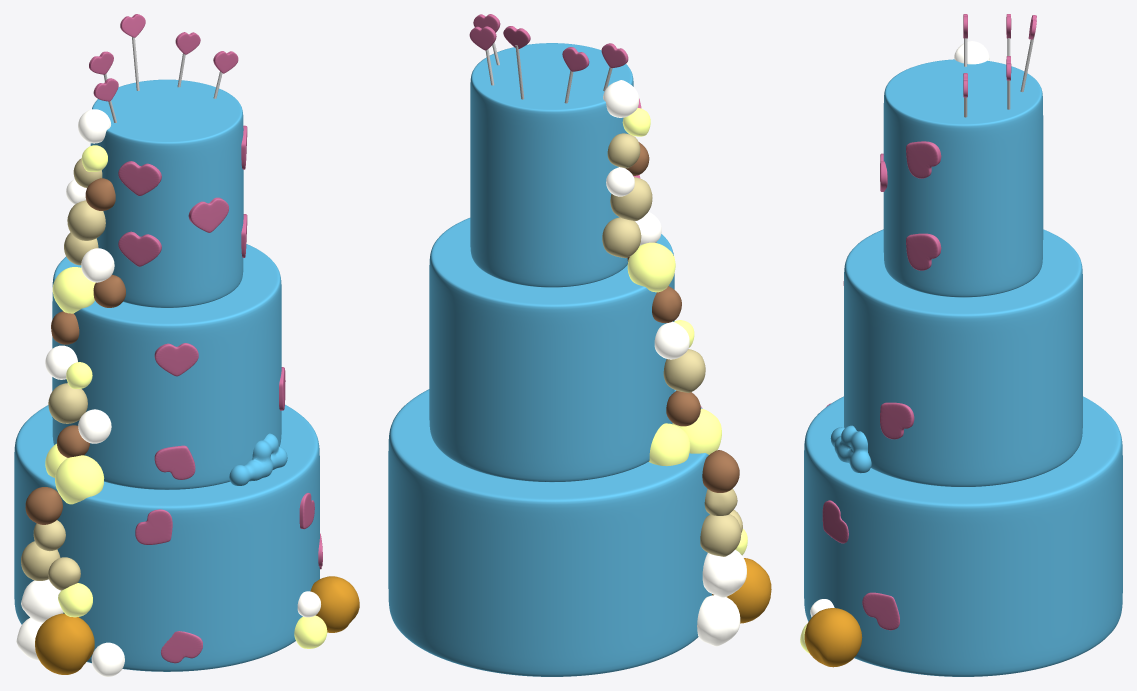
File: Cake_Layer_3_LightBlue_Topper1_Hearts_NoDrip.glb
3 views of the same model, side by side, from view 1: azimuth 30°, elevation 25°; view 2: azimuth 150°, elevation 25°; view 3: azimuth 270°, elevation 25° (orthographic). The views are drawn at different scales.
Visible parts, largest first — view 1: Circle.001, Circle.002, Circle.003, Sphere, Sphere.026, Sphere.015, Sphere.028, Sphere.007, Sphere.002, Sphere.012, Sphere.032, Sphere.006 (+25 smaller); view 2: Circle.001, Circle.002, Circle.003, Sphere.007, Sphere.013, Sphere.002, Sphere, Sphere.005, Sphere.008, Sphere.012, Sphere.006, Sphere.037 (+11 smaller); view 3: Circle.001, Circle.002, Circle.003, Sphere.026, Sphere.028, Star.016, Star.012, Star.004, Star.011, Star.010, Sphere.039.
Boxes of the visible parts, left/top/right/bottom form: Circle.001: left=14, top=404, right=319, bottom=671; Circle.002: left=52, top=244, right=281, bottom=489; Circle.003: left=90, top=79, right=243, bottom=307; Sphere: left=35, top=613, right=94, bottom=674; Sphere.026: left=310, top=576, right=359, bottom=632; Sphere.015: left=55, top=455, right=104, bottom=504; Sphere.028: left=229, top=433, right=287, bottom=485; Sphere.007: left=52, top=267, right=95, bottom=313; Sphere.002: left=21, top=579, right=63, bottom=622; Sphere.012: left=48, top=383, right=87, bottom=423; Sphere.032: left=67, top=200, right=105, bottom=240; Sphere.006: left=25, top=487, right=62, bottom=524; Circle.001: left=388, top=389, right=711, bottom=676; Circle.002: left=429, top=218, right=674, bottom=482; Circle.003: left=470, top=43, right=633, bottom=287; Sphere.007: left=627, top=242, right=675, bottom=292; Sphere.013: left=697, top=595, right=740, bottom=646; Sphere.002: left=702, top=550, right=746, bottom=597; Sphere: left=712, top=558, right=771, bottom=623; Sphere.005: left=700, top=514, right=741, bottom=556; Sphere.008: left=648, top=423, right=690, bottom=466; Sphere.012: left=663, top=349, right=705, bottom=392; Sphere.006: left=702, top=450, right=739, bottom=492; Sphere.037: left=602, top=217, right=641, bottom=258; Circle.001: left=804, top=396, right=1122, bottom=676; Circle.002: left=844, top=229, right=1082, bottom=486; Circle.003: left=883, top=59, right=1043, bottom=297; Sphere.026: left=804, top=608, right=862, bottom=667; Sphere.028: left=830, top=425, right=871, bottom=473; Star.016: left=906, top=141, right=941, bottom=178; Star.012: left=906, top=233, right=941, bottom=270; Star.004: left=880, top=402, right=914, bottom=439; Star.011: left=862, top=592, right=899, bottom=630; Star.010: left=822, top=500, right=848, bottom=543; Sphere.039: left=954, top=41, right=989, bottom=64.
Size of the model in its own units: 0.2244 by 0.4156 by 0.2025.
